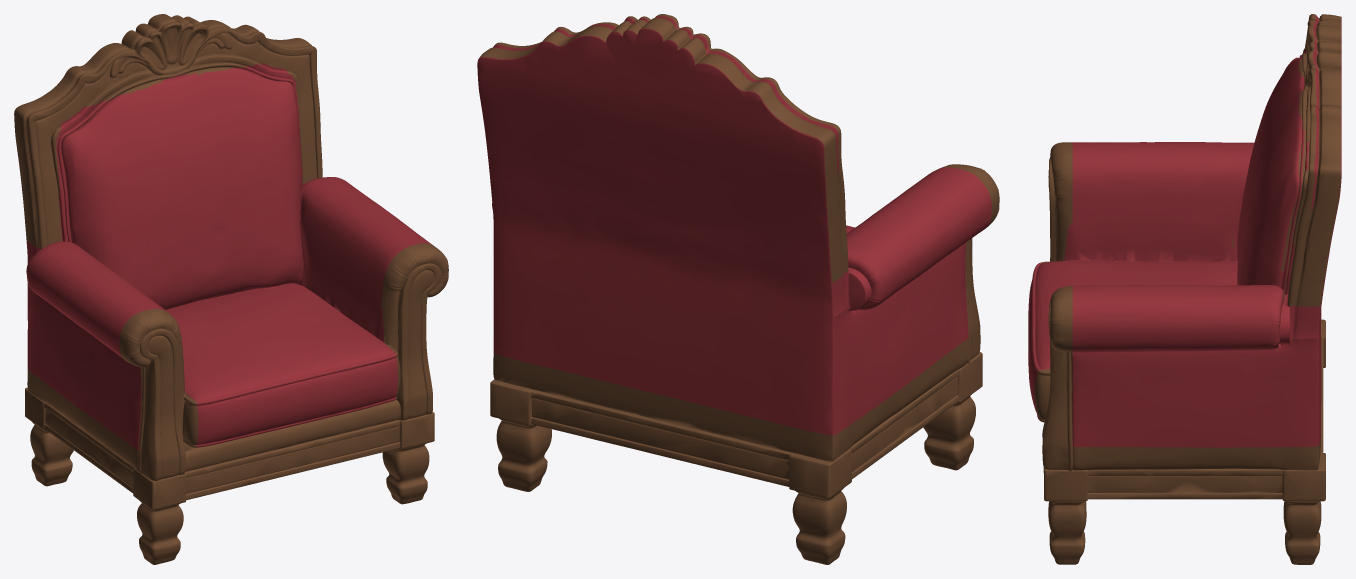
File: Armchair_Carved.glb
3 views of the same model, side by side, from view 1: azimuth 30°, elevation 25°; view 2: azimuth 150°, elevation 25°; view 3: azimuth 270°, elevation 25° (orthographic). The views are drawn at different scales.
Visible parts, largest first — view 1: Armchair_BackPanel, Armchair_Seat, Armchair_Base, Armchair_Arm_L, Armchair_BackFrame, Armchair_Arm_R, Armchair_ArmFront_L, Armchair_ArmFront_R, Armchair_Crest, Armchair_Leg_FL, Armchair_Leg_FR, Armchair_Leg_BL; view 2: Armchair_BackRear, Armchair_Base, Armchair_Arm_L, Armchair_BackFrame, Armchair_Leg_BL, Armchair_Leg_BR, Armchair_Leg_FL, Armchair_Crest, Armchair_ArmFront_L; view 3: Armchair_Arm_R, Armchair_Base, Armchair_Arm_L, Armchair_Seat, Armchair_BackPanel, Armchair_BackFrame, Armchair_ArmFront_R, Armchair_ArmFront_L, Armchair_Leg_BR, Armchair_Leg_FR, Armchair_Crest, Armchair_BackRear.
Boxes of the visible parts, x1,y1,x2,y2 form: Armchair_BackPanel: [56, 63, 307, 306]; Armchair_Seat: [161, 256, 397, 447]; Armchair_Base: [25, 369, 434, 507]; Armchair_Arm_L: [26, 228, 168, 450]; Armchair_BackFrame: [14, 24, 322, 249]; Armchair_Arm_R: [296, 173, 433, 304]; Armchair_ArmFront_L: [119, 309, 198, 459]; Armchair_ArmFront_R: [380, 243, 448, 398]; Armchair_Crest: [92, 14, 238, 78]; Armchair_Leg_FL: [125, 487, 195, 564]; Armchair_Leg_FR: [382, 439, 434, 504]; Armchair_Leg_BL: [25, 415, 73, 486]; Armchair_BackRear: [477, 15, 839, 435]; Armchair_Base: [490, 325, 982, 496]; Armchair_Arm_L: [831, 167, 991, 434]; Armchair_BackFrame: [479, 27, 848, 282]; Armchair_Leg_BL: [771, 471, 862, 564]; Armchair_Leg_BR: [490, 414, 552, 491]; Armchair_Leg_FL: [923, 384, 982, 470]; Armchair_Crest: [571, 14, 746, 80]; Armchair_ArmFront_L: [939, 164, 999, 336]; Armchair_Arm_R: [1072, 263, 1320, 447]; Armchair_Base: [1042, 319, 1325, 499]; Armchair_Arm_L: [1072, 142, 1254, 255]; Armchair_Seat: [1028, 221, 1237, 419]; Armchair_BackPanel: [1231, 49, 1309, 294]; Armchair_BackFrame: [1232, 14, 1341, 306]; Armchair_ArmFront_R: [1035, 286, 1072, 446]; Armchair_ArmFront_L: [1040, 142, 1072, 263]; Armchair_Leg_BR: [1257, 497, 1325, 564]; Armchair_Leg_FR: [1044, 498, 1096, 564]; Armchair_Crest: [1307, 18, 1341, 96]; Armchair_BackRear: [1311, 15, 1341, 445].
Bounding box in the file's own units: 0.8803 × 1.1 × 0.6709.
